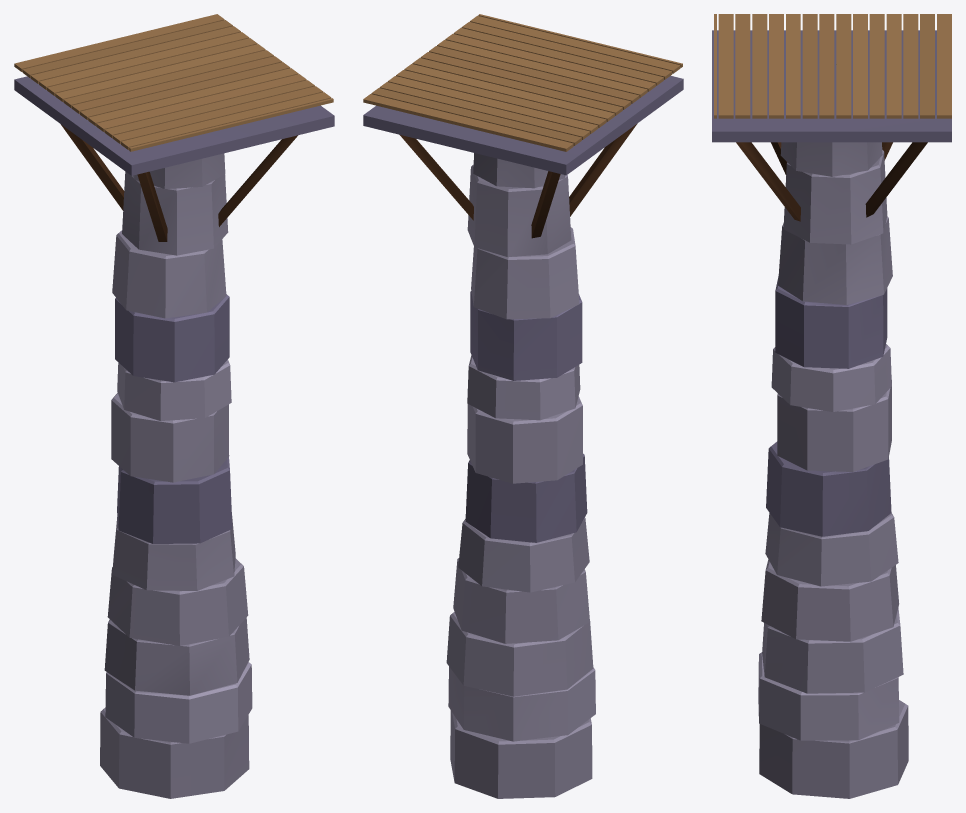
Rendered from g_tower.glb.
The picture shows the model from 3 angles, left to right: view 1: azimuth 30°, elevation 25°; view 2: azimuth 150°, elevation 25°; view 3: azimuth 270°, elevation 25°; orthographic projection. The views are drawn at different scales.
Parts seen in each view (by area): view 1: g_tower; view 2: g_tower; view 3: g_tower.
Part boxes in pixels (x1,y1,x2,y2): g_tower: [14, 14, 334, 798]; g_tower: [363, 14, 683, 798]; g_tower: [712, 14, 951, 798].
Bounding box in the file's own units: 4 × 12.92 × 4.
